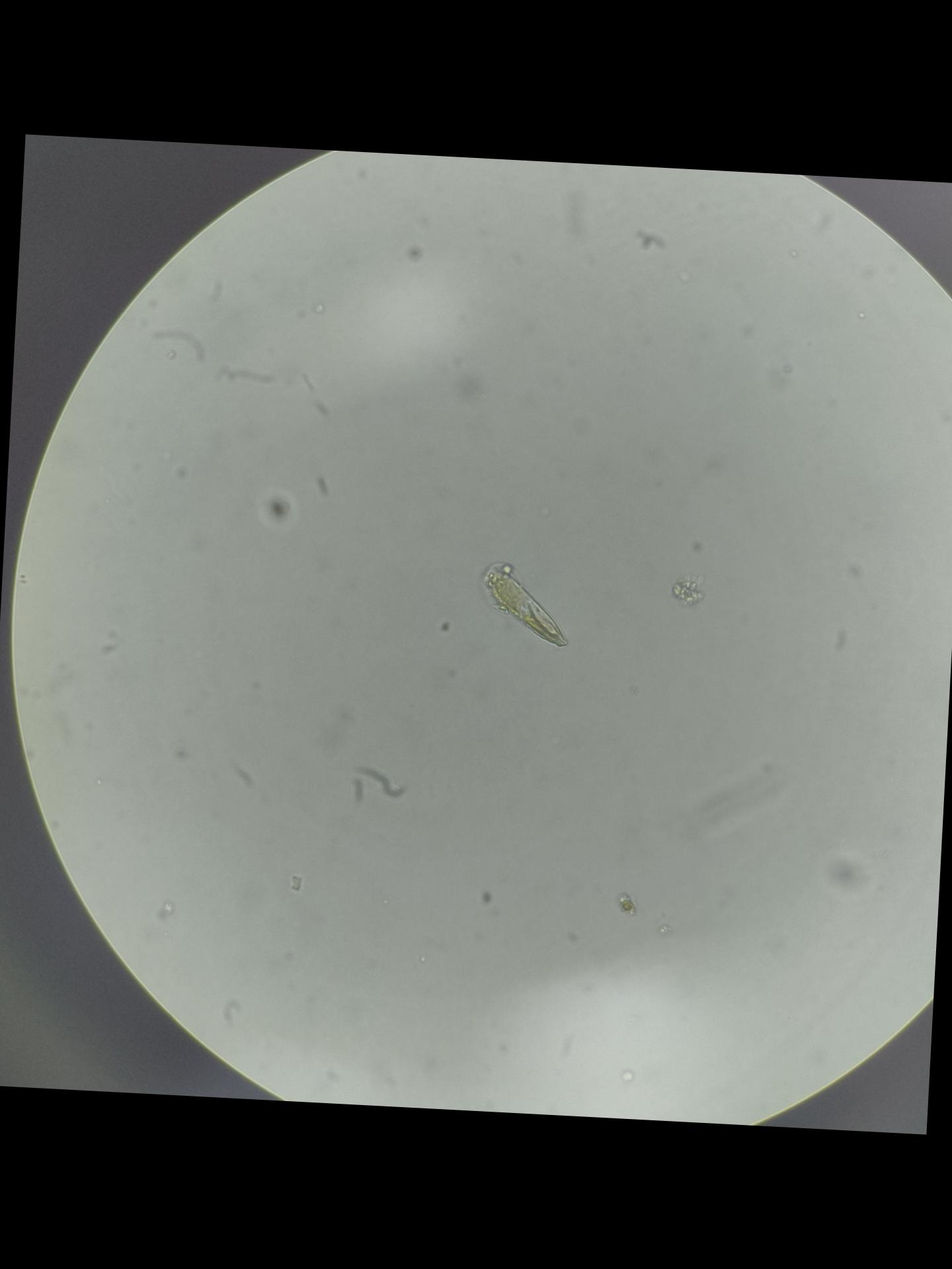Euglena: (472, 557, 582, 656)
